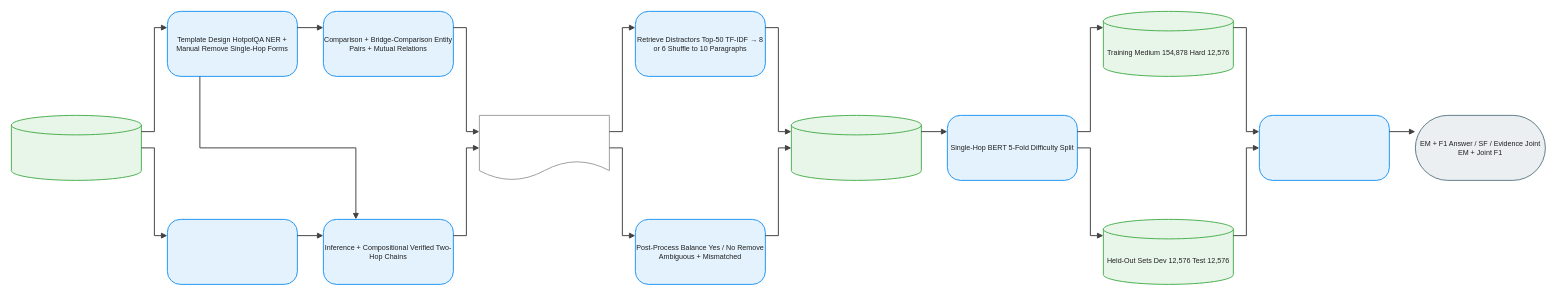
Some shapes in this 1557 by 296 pixel diagram are drawn without their labels. Each missing label, with the centre of its shape:
2WikiMultihopQA 192,606 Questions Four Question Types: [856,148]
Build QA Record Question / Answer / Context Supporting Facts / Triples: [544,148]
Logical Rules AMIE Candidates Manually Verify 28 Rules: [232,252]
Predict Answer Sentence Supporting Facts Evidence Triples: [1324,148]
Wikipedia Summaries + Wikidata Statements 5.95M Entities / 23,763 Groups: [76,148]
